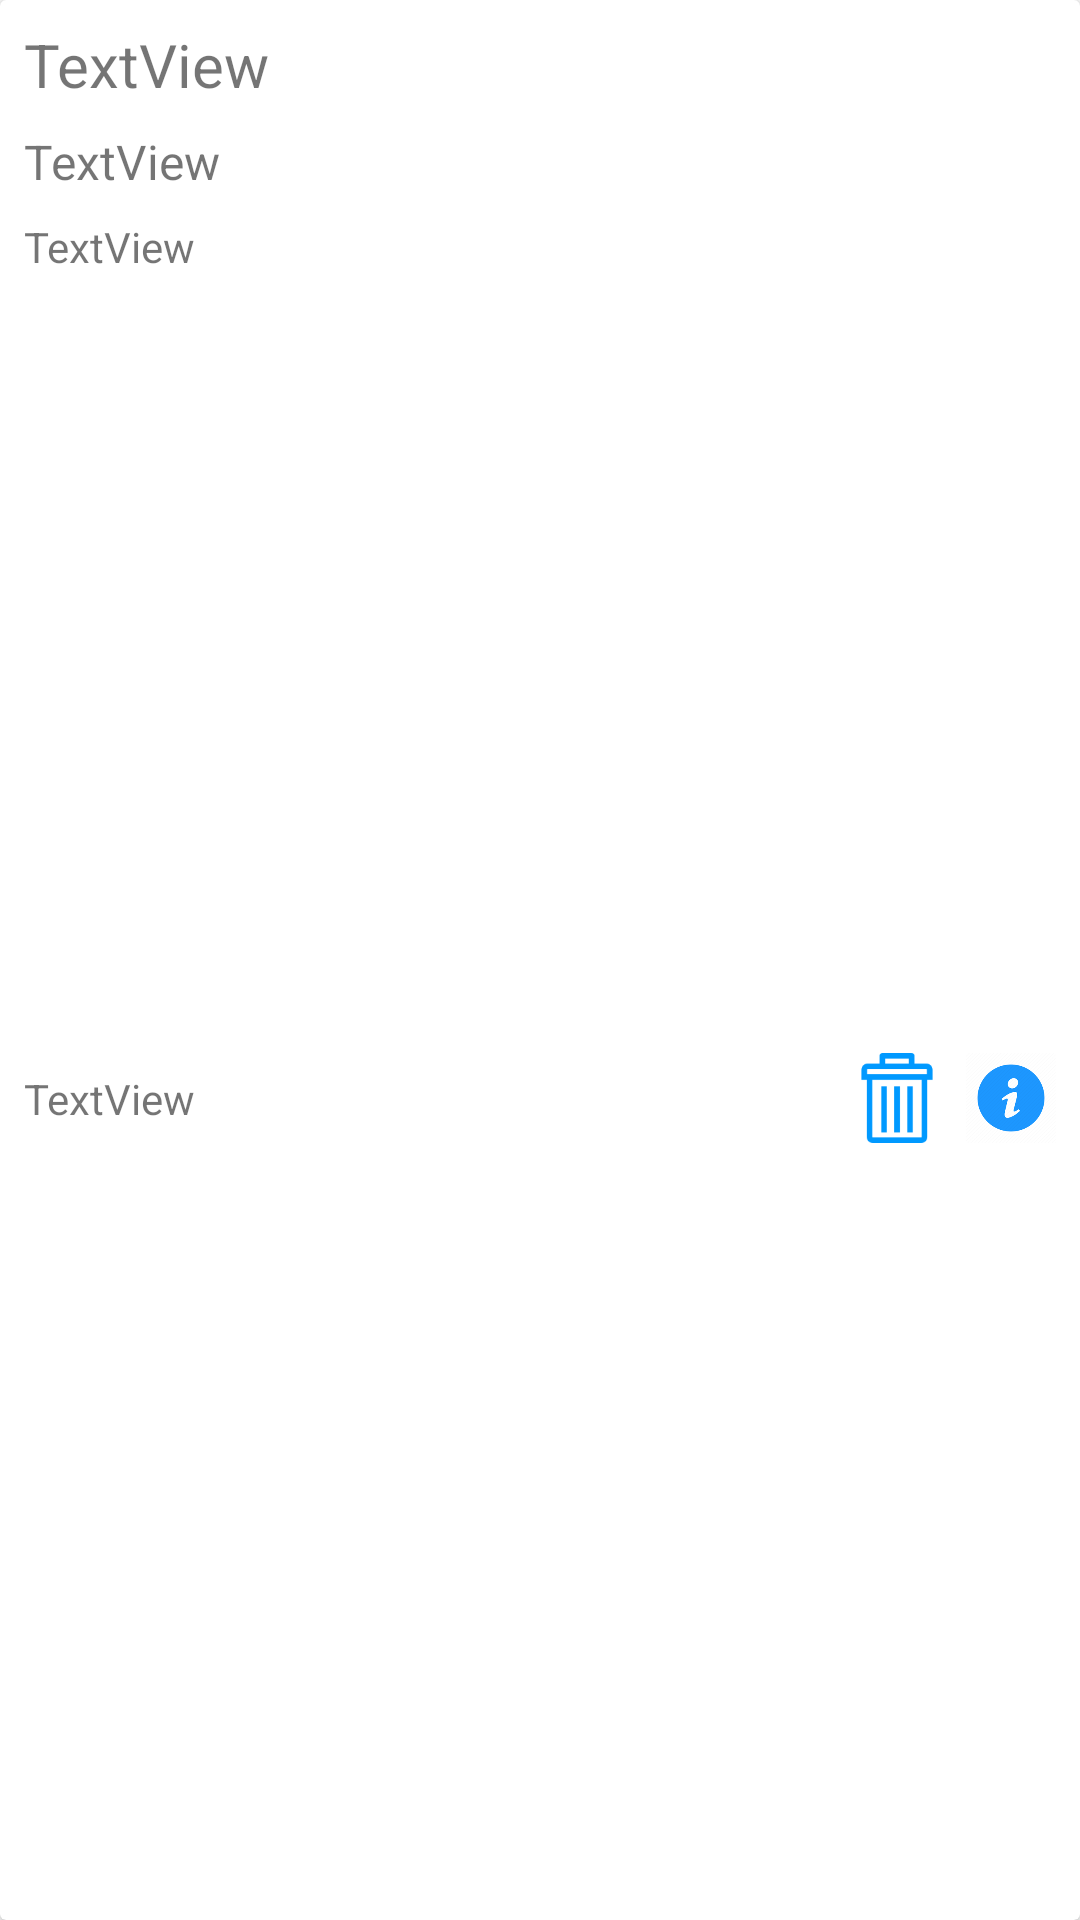

Named icons in this screenshot (1080w x 1920h) and their bounding boxes, [x1,y1,x2,y2]:
infopicture: [977,1064,1045,1132]
trashbin: [861,1053,933,1143]
